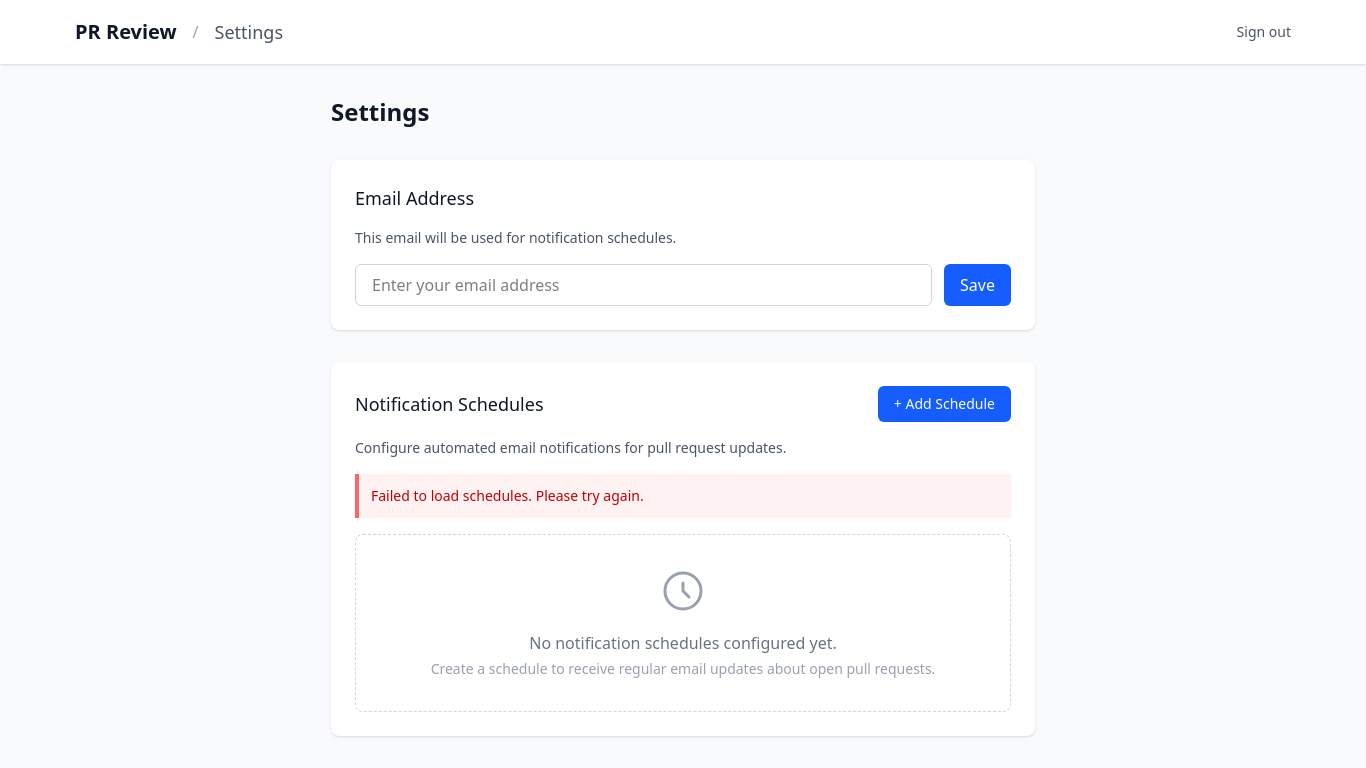
Scenario: Settings › shows error message when update fails
The width and height of the screenshot is (1366, 768).
Type "new@example.com" into the field with placeholder "Enter your email address" at x=644, y=285, box top-left (355, 264), bottom-right (932, 306)
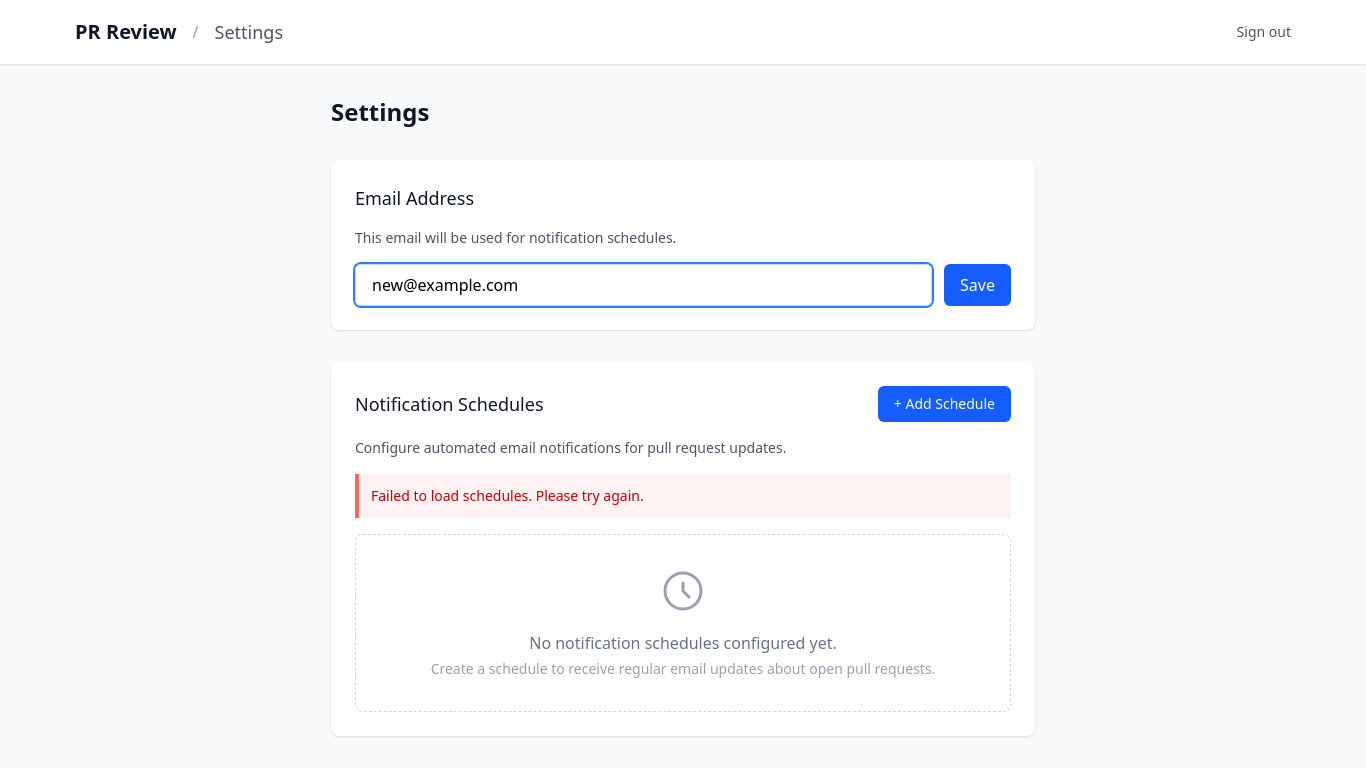
Click the button "Save" at x=978, y=285, box top-left (944, 264), bottom-right (1011, 306)
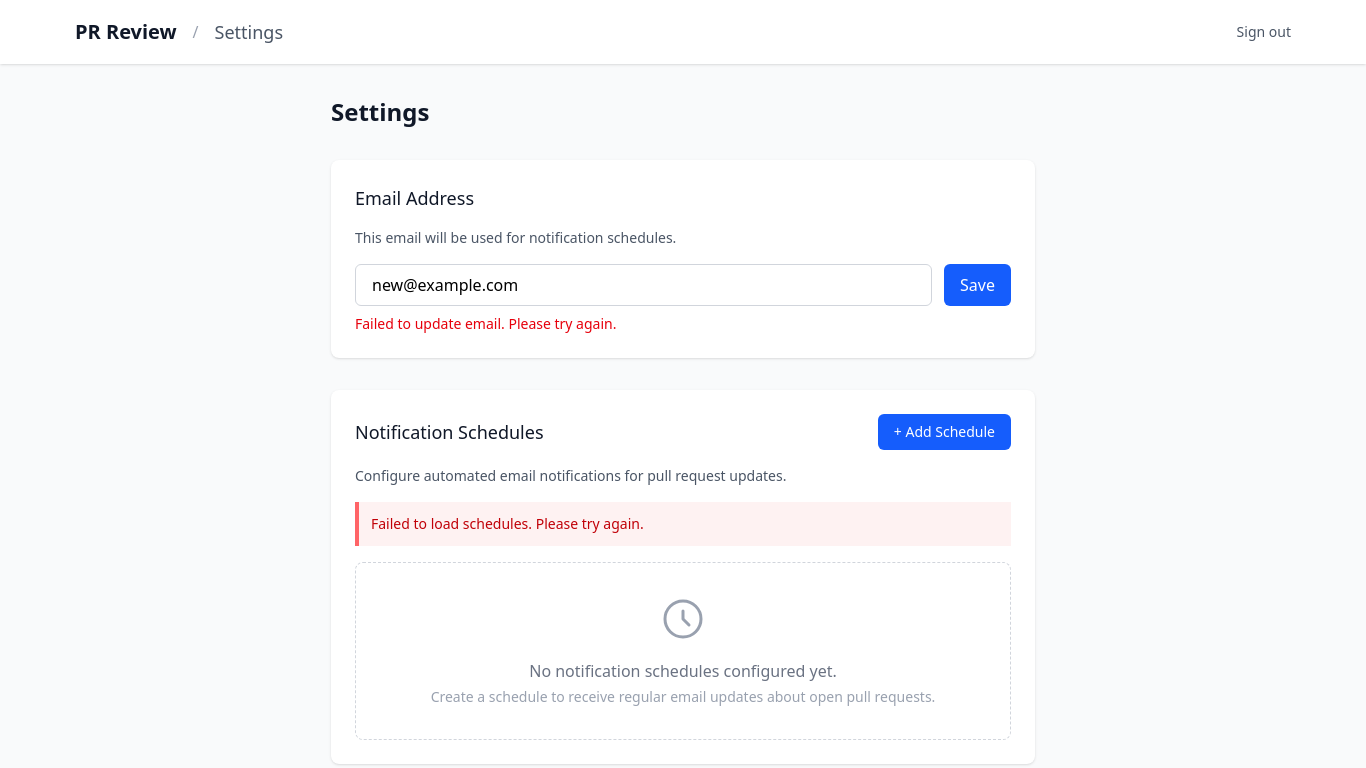
Expected: the text "Failed to update email. Please try again." is shown, top-left (355, 314), bottom-right (616, 333)
